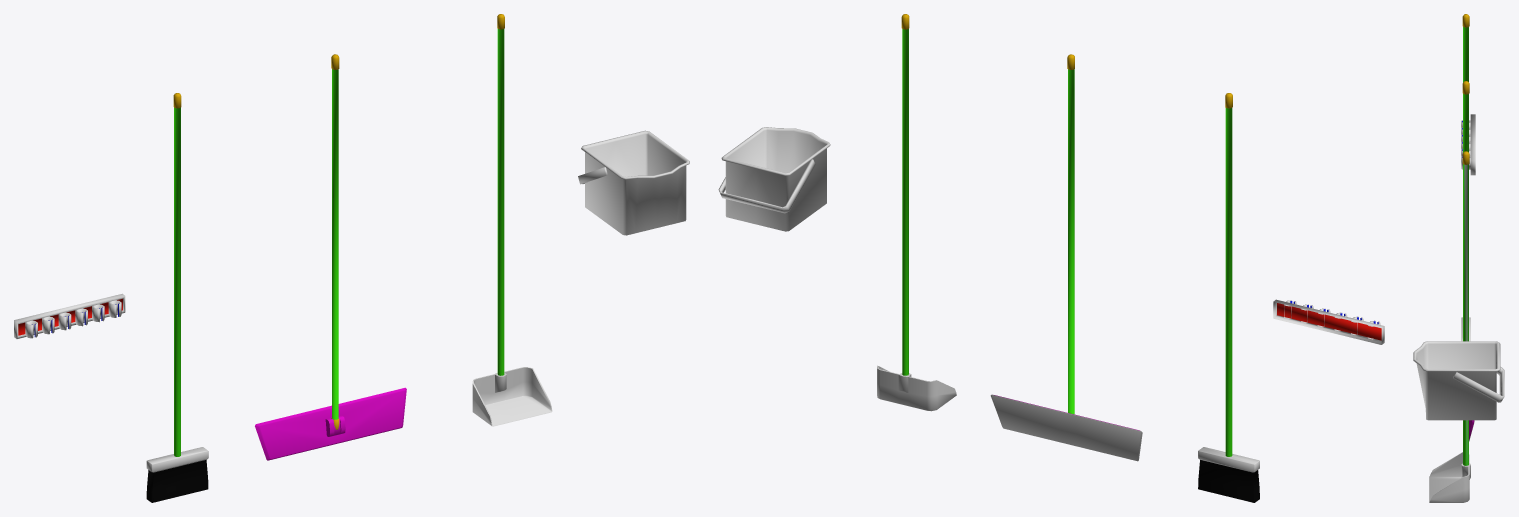
Rendered from Household_set.fbx.
3 views of the same model, side by side, from view 1: azimuth 30°, elevation 25°; view 2: azimuth 150°, elevation 25°; view 3: azimuth 270°, elevation 25° (orthographic). The views are drawn at different scales.
Parts seen in each view (by area): view 1: Bucket, Brush_plate, Dustpan, Brush, Brush_holder; view 2: Bucket, Brush_plate, Brush, Dustpan, Brush_holder; view 3: Bucket, Dustpan, Brush, Brush_plate, Brush_holder.
Boxes of the visible parts, <box> form: Bucket: <box>578,130,689,235</box>; Brush_plate: <box>255,54,406,460</box>; Dustpan: <box>472,14,552,426</box>; Brush: <box>146,93,208,502</box>; Brush_holder: <box>14,293,125,338</box>; Bucket: <box>718,127,830,231</box>; Brush_plate: <box>990,54,1142,461</box>; Brush: <box>1198,93,1259,502</box>; Dustpan: <box>877,14,956,411</box>; Brush_holder: <box>1273,299,1384,344</box>; Bucket: <box>1413,341,1504,420</box>; Dustpan: <box>1429,151,1470,502</box>; Brush: <box>1461,14,1470,341</box>; Brush_plate: <box>1462,81,1474,441</box>; Brush_holder: <box>1461,114,1475,175</box>.
Size of the model in its own units: 263 by 155 by 36.91.
